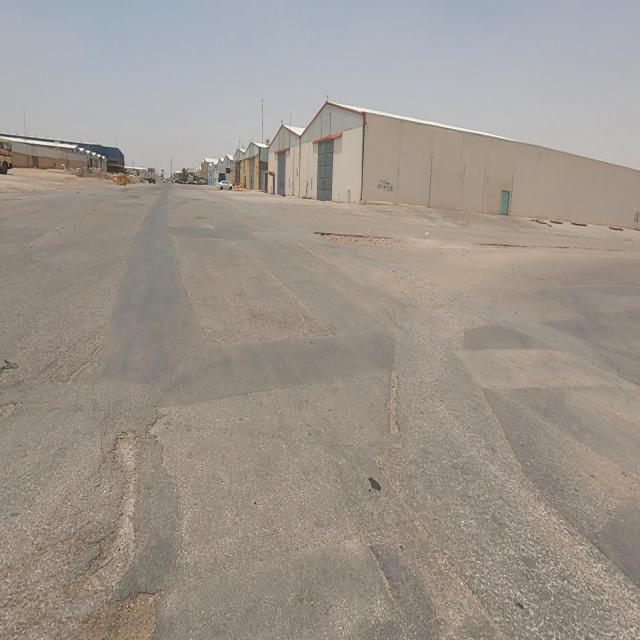Graffiti: (378, 179, 394, 194)
